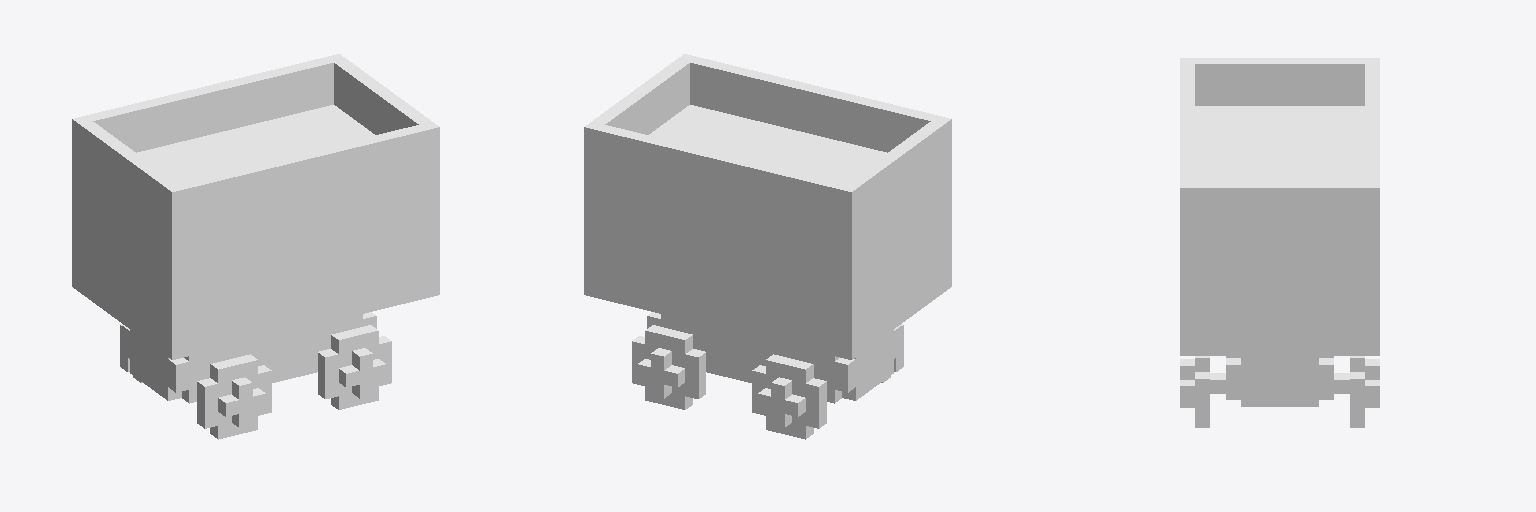
The model's file is bat-3.obj.
3 views of the same model, side by side, from view 1: azimuth 30°, elevation 25°; view 2: azimuth 150°, elevation 25°; view 3: azimuth 270°, elevation 25° (orthographic).
Parts seen in each view (by area): view 1: object 1; view 2: object 1; view 3: object 1.
Part boxes in pixels (left/top/right/bottom): object 1: left=72, top=54, right=439, bottom=439; object 1: left=584, top=54, right=951, bottom=439; object 1: left=1180, top=58, right=1379, bottom=427.
Bounding box in the file's own units: 2 × 1.9 × 1.3.